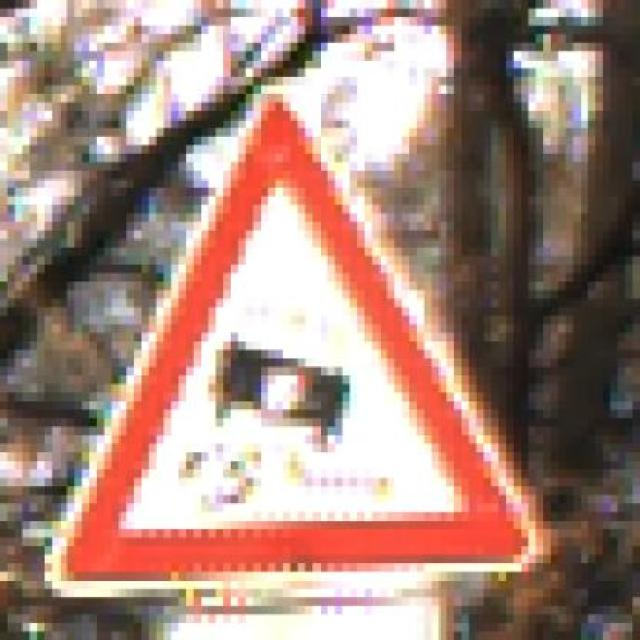Slippery Road Ahead: (52, 85, 558, 606)
